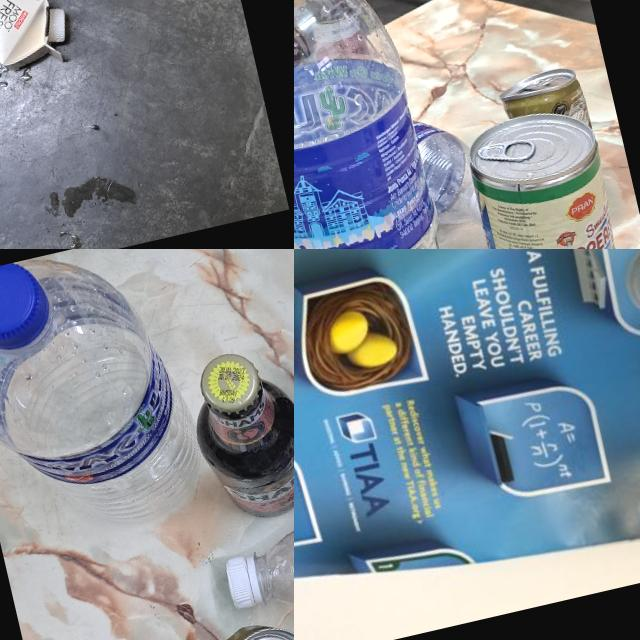aba de lata: (477, 134, 538, 170), (524, 74, 556, 90)
garrafa de vidro: (179, 340, 294, 531)
garrafa plástica: (0, 249, 212, 552), (294, 0, 473, 249), (408, 108, 488, 228)
lata: (460, 100, 636, 249), (498, 64, 592, 148)
papel: (294, 249, 640, 640)
tampa plástica: (0, 256, 57, 357), (222, 554, 256, 610), (41, 5, 72, 44)
